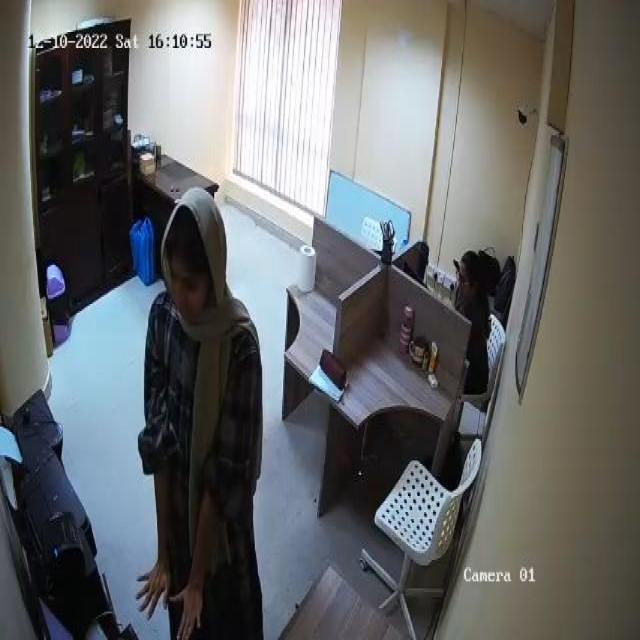bare_hand: (133, 556, 170, 629), (169, 581, 203, 640)
